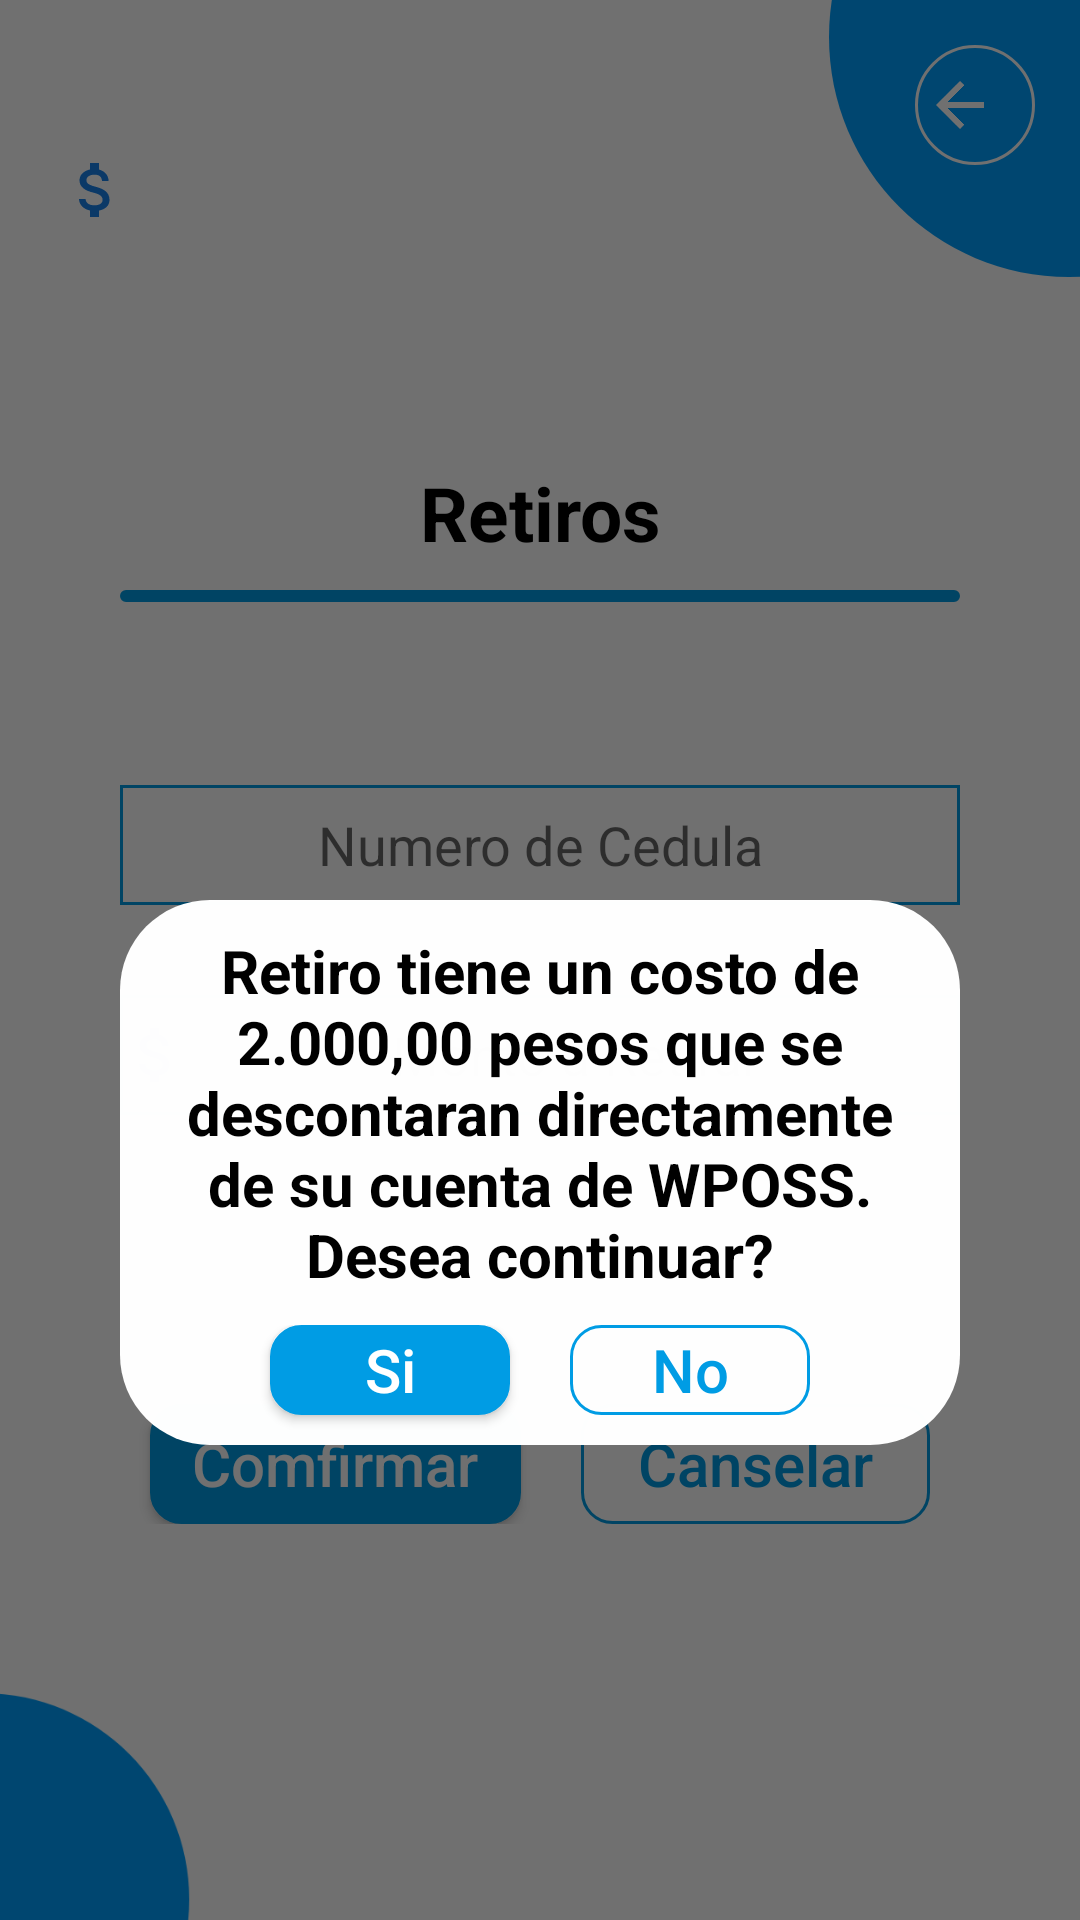

Screen size 1080 × 1920. Icon name, then its center in pixels as (x,y):
back: (975,105)
